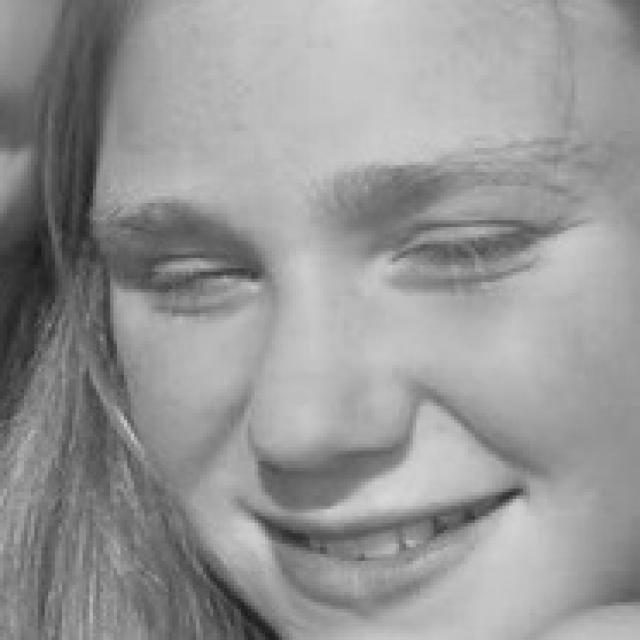real: (81, 37, 624, 623), (106, 178, 600, 312)
